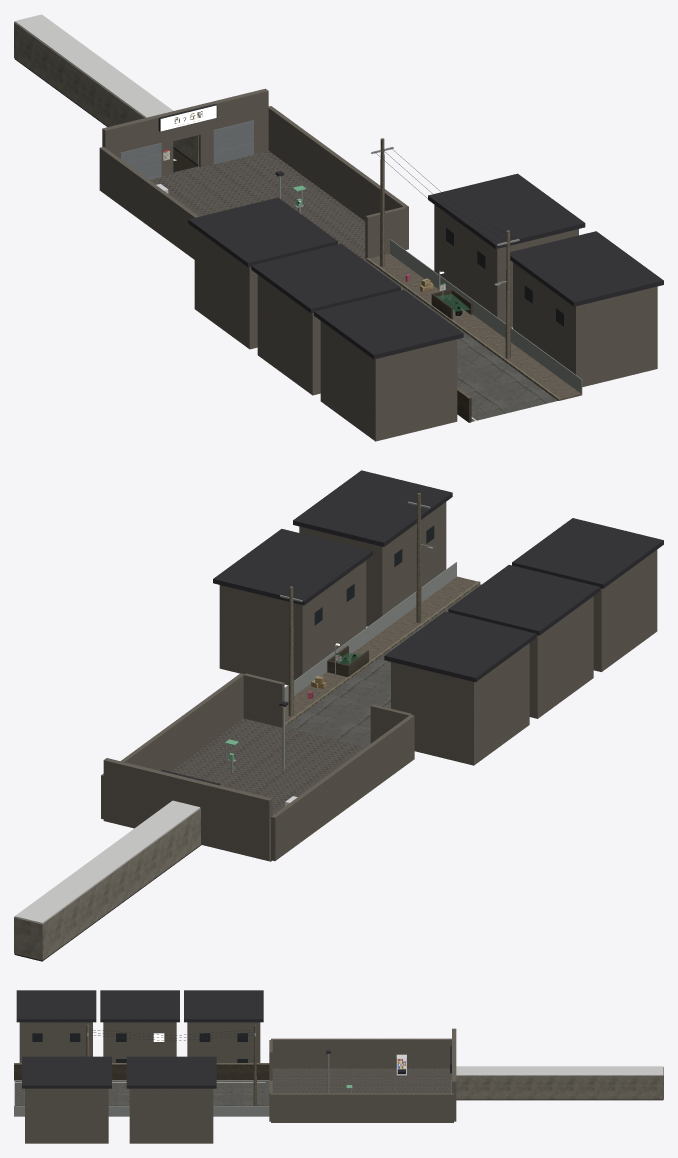
Rendered from space05.glb.
The picture shows the model from 3 angles, top to bottom: view 1: azimuth 30°, elevation 25°; view 2: azimuth 150°, elevation 25°; view 3: azimuth 270°, elevation 25°; orthographic projection. The views are drawn at different scales.
Parts seen in each view (by area): view 1: space05_static; view 2: space05_static; view 3: space05_static.
Part boxes in pixels (left/top/right/bottom): space05_static: left=14, top=14, right=663, bottom=441; space05_static: left=14, top=470, right=663, bottom=961; space05_static: left=14, top=990, right=663, bottom=1143.
Size of the model in its own units: 21.6 by 9.1 by 62.1.
Materials: 41 (24 with a texture image).
